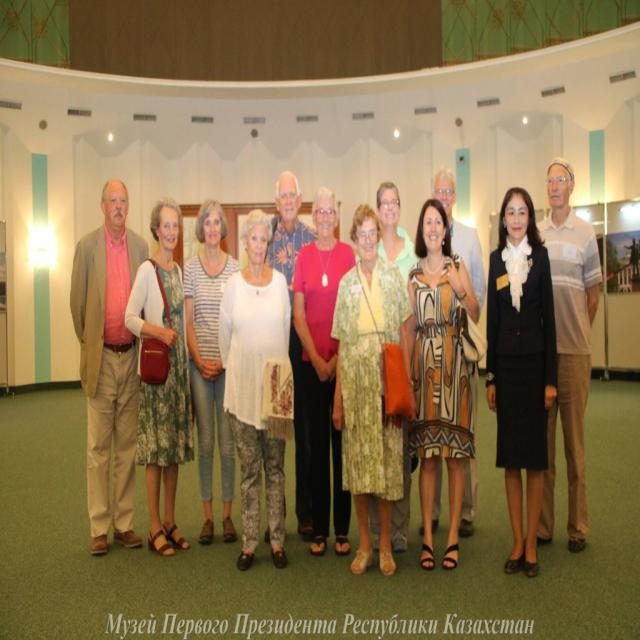body: (522, 156, 603, 554), (70, 175, 154, 558), (331, 204, 416, 578), (482, 183, 560, 579), (402, 195, 480, 572), (216, 205, 294, 572), (123, 192, 196, 560), (417, 165, 488, 537), (290, 183, 360, 560), (261, 169, 321, 548), (181, 198, 245, 547), (369, 178, 419, 553), (620, 236, 640, 282)
